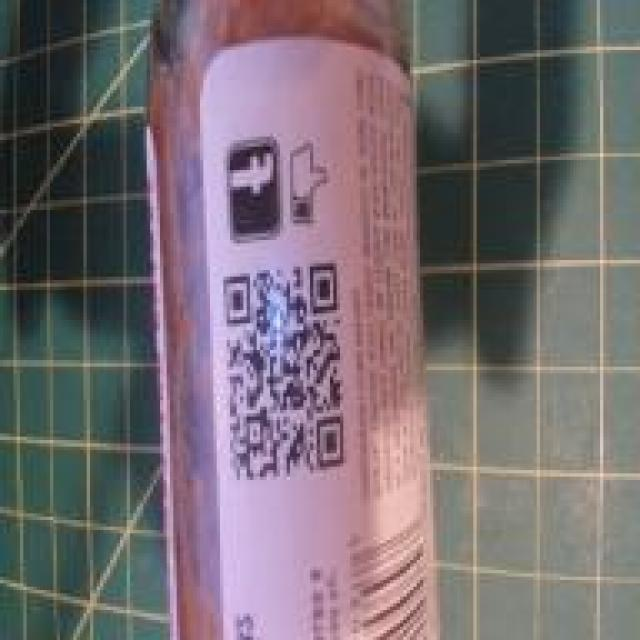qr_code: (224, 263, 345, 481)
